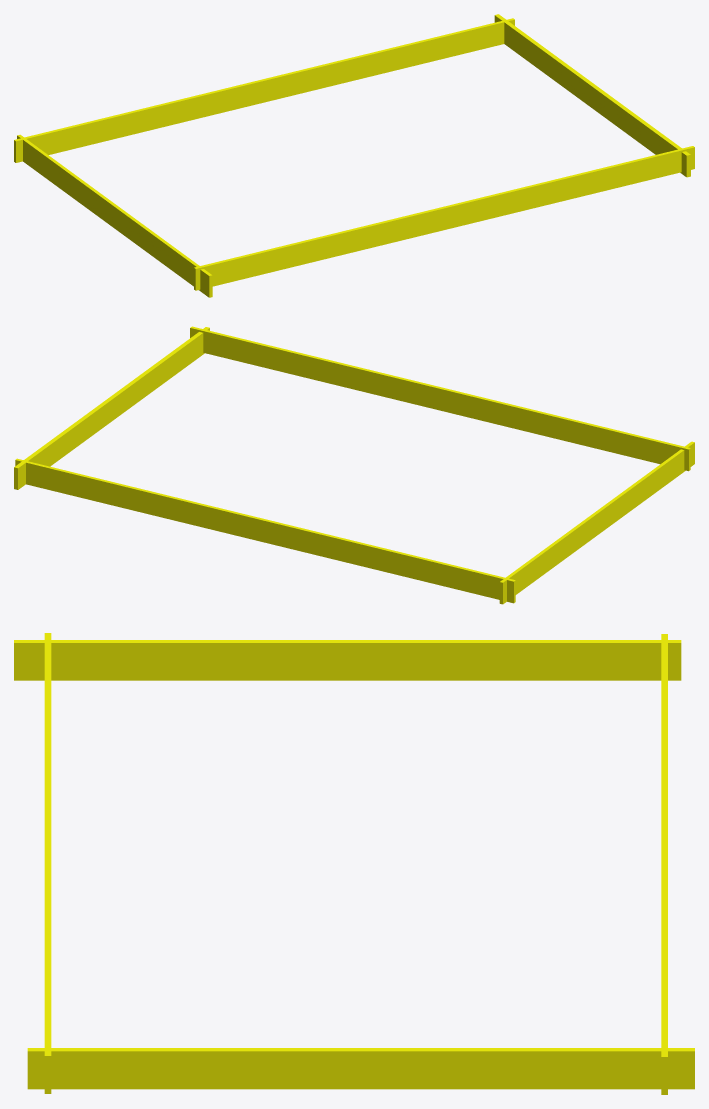
File: YellowBorder.dae
3 renders of one model, top to bottom at view 1: azimuth 30°, elevation 25°; view 2: azimuth 150°, elevation 25°; view 3: azimuth 270°, elevation 25°, orthographic. The views are drawn at different scales.
Visible parts, largest first — view 1: Cube.003, Cube.002, Cube.001, Cube; view 2: Cube.002, Cube.003, Cube, Cube.001; view 3: Cube, Cube.001, Cube.003, Cube.002.
Part boxes in pixels (<box>): Cube.003: <box>194,146,694,290</box>; Cube.002: <box>14,18,514,162</box>; Cube.001: <box>17,134,212,297</box>; Cube: <box>494,14,690,177</box>; Cube.002: <box>15,458,515,603</box>; Cube.003: <box>190,326,690,471</box>; Cube: <box>14,327,209,489</box>; Cube.001: <box>499,441,694,604</box>; Cube: <box>27,1048,694,1089</box>; Cube.001: <box>14,640,681,680</box>; Cube.003: <box>44,633,51,1093</box>; Cube.002: <box>661,634,667,1094</box>.
Size of the model in its own units: 12.06 by 8.17 by 0.54.
